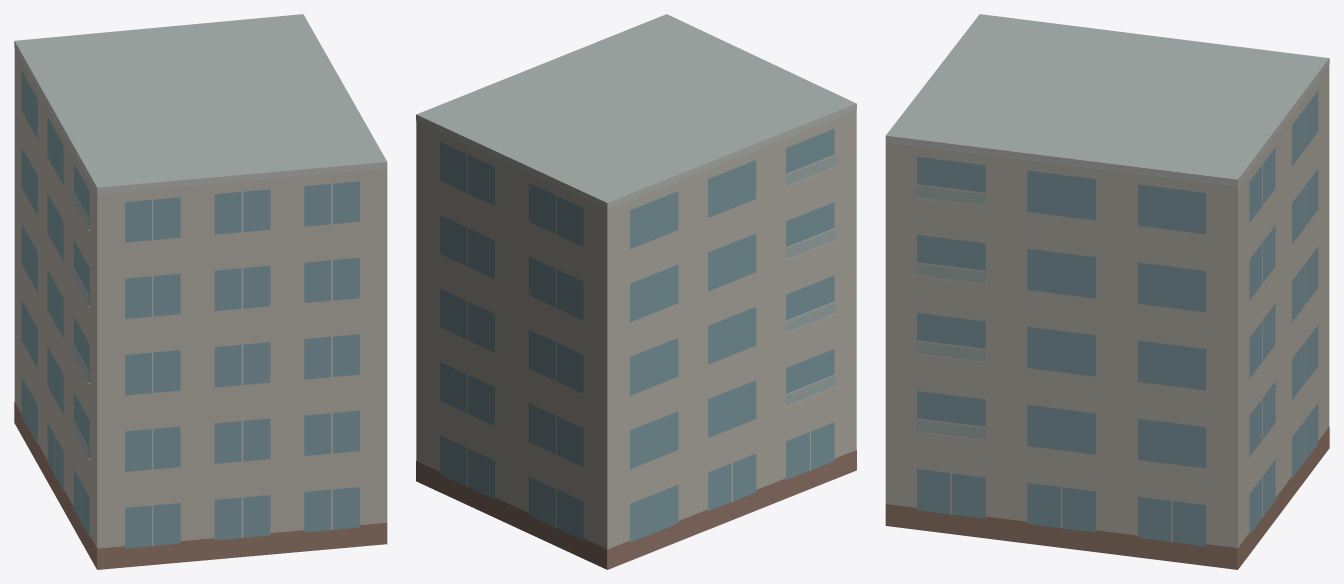
Rendered from survey-upis-32869184.glb.
3 views of the same model, side by side, from view 1: azimuth 30°, elevation 25°; view 2: azimuth 150°, elevation 25°; view 3: azimuth 270°, elevation 25° (orthographic). The views are drawn at different scales.
Visible parts, largest first — view 1: survey-upis-32869184.tmp; view 2: survey-upis-32869184.tmp; view 3: survey-upis-32869184.tmp.
Boxes of the visible parts, x1,y1,x2,y2 form: survey-upis-32869184.tmp: [14, 14, 387, 569]; survey-upis-32869184.tmp: [416, 14, 856, 569]; survey-upis-32869184.tmp: [885, 14, 1329, 569].
Size of the model in its own units: 12.58 by 13.8 by 14.23.
